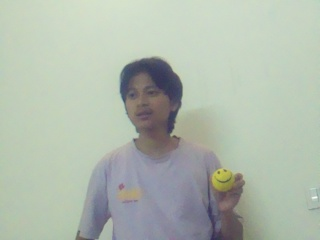ball: (211, 168, 234, 191)
